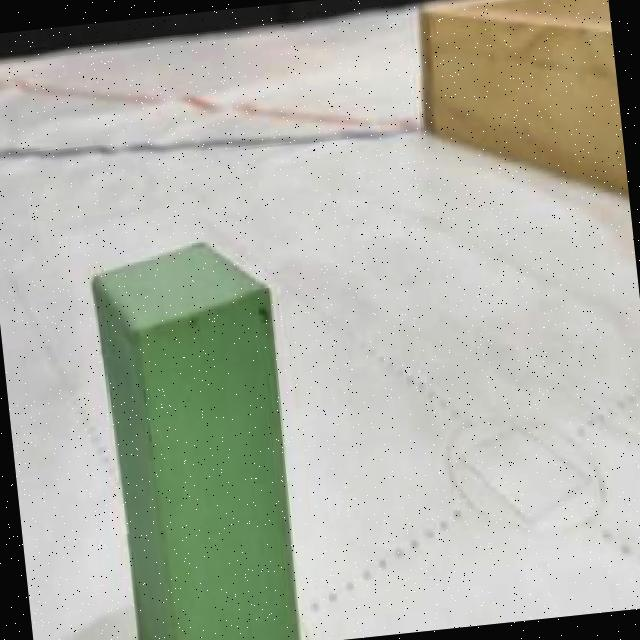greenbox: (84, 225, 309, 640)
